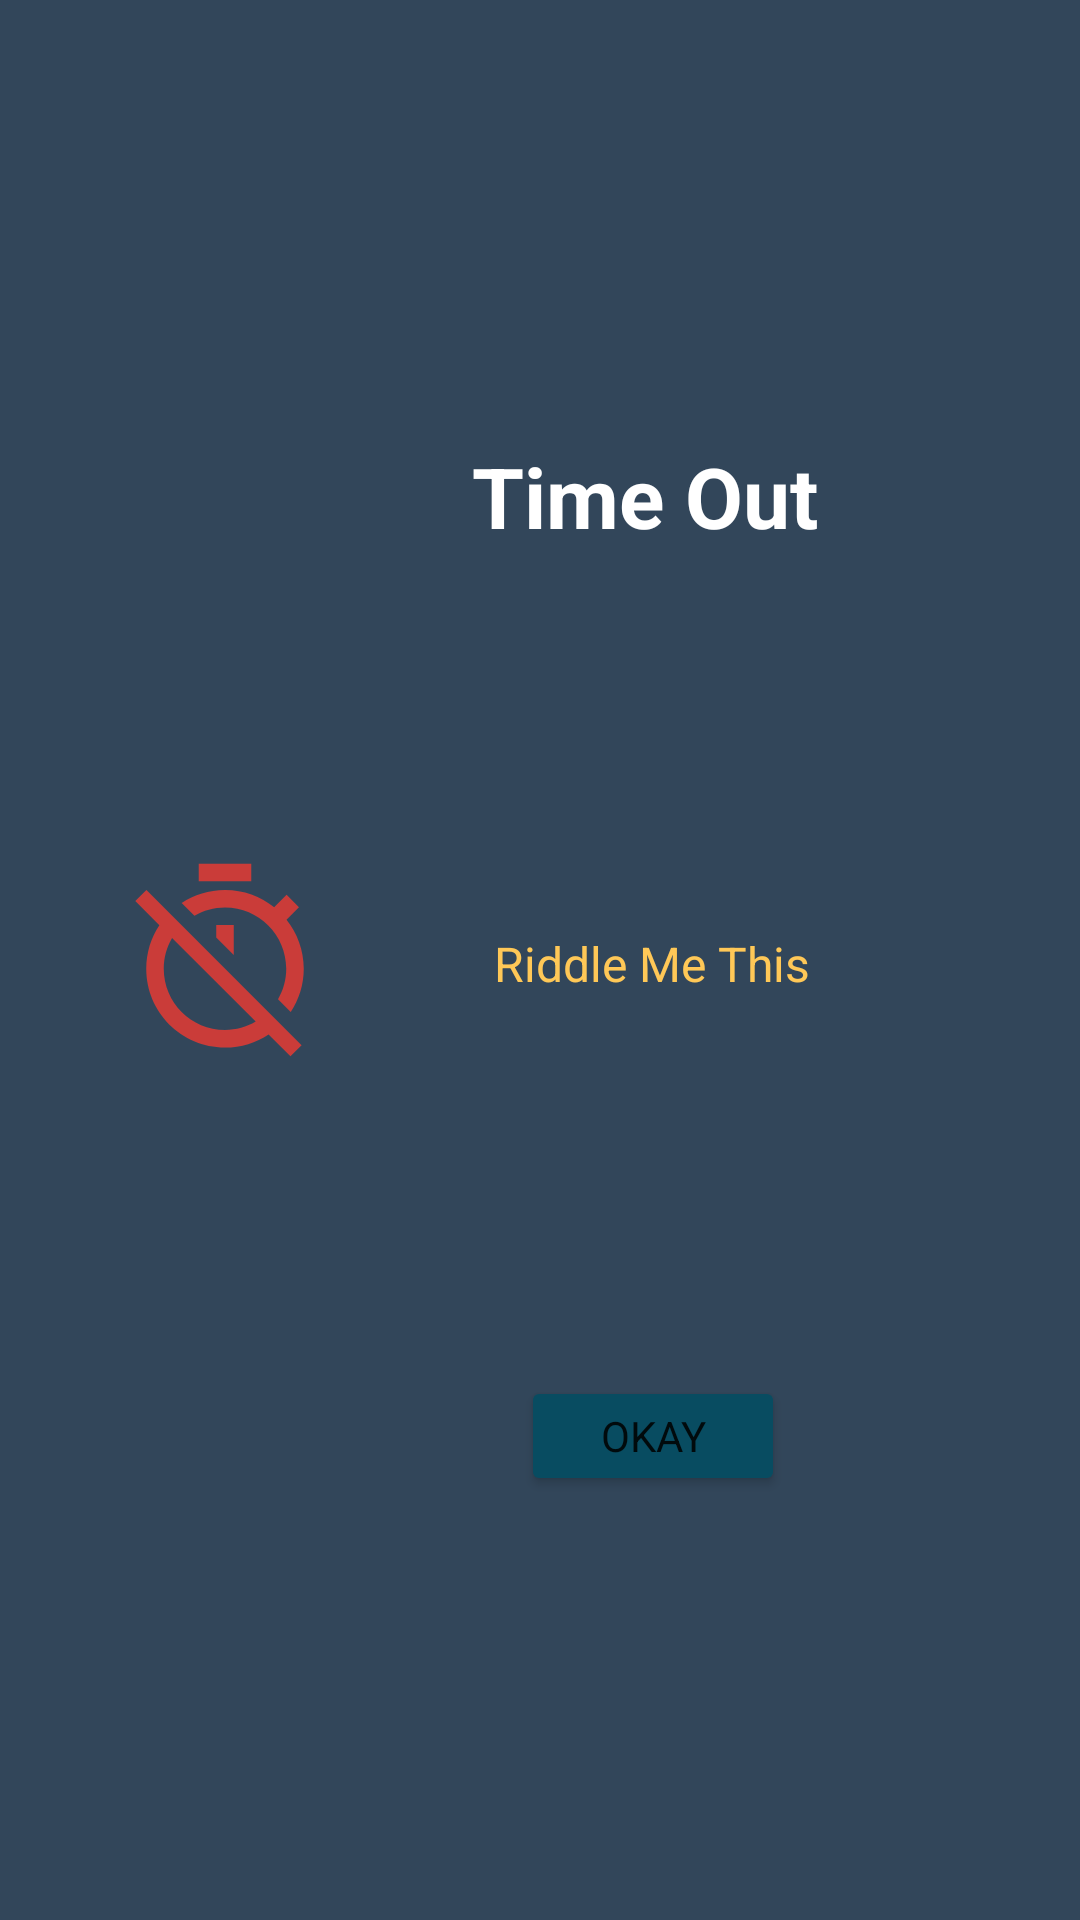

Icon click points for this 1080x1920 phone screenshot, format (x,y):
timer off: (219,959)
